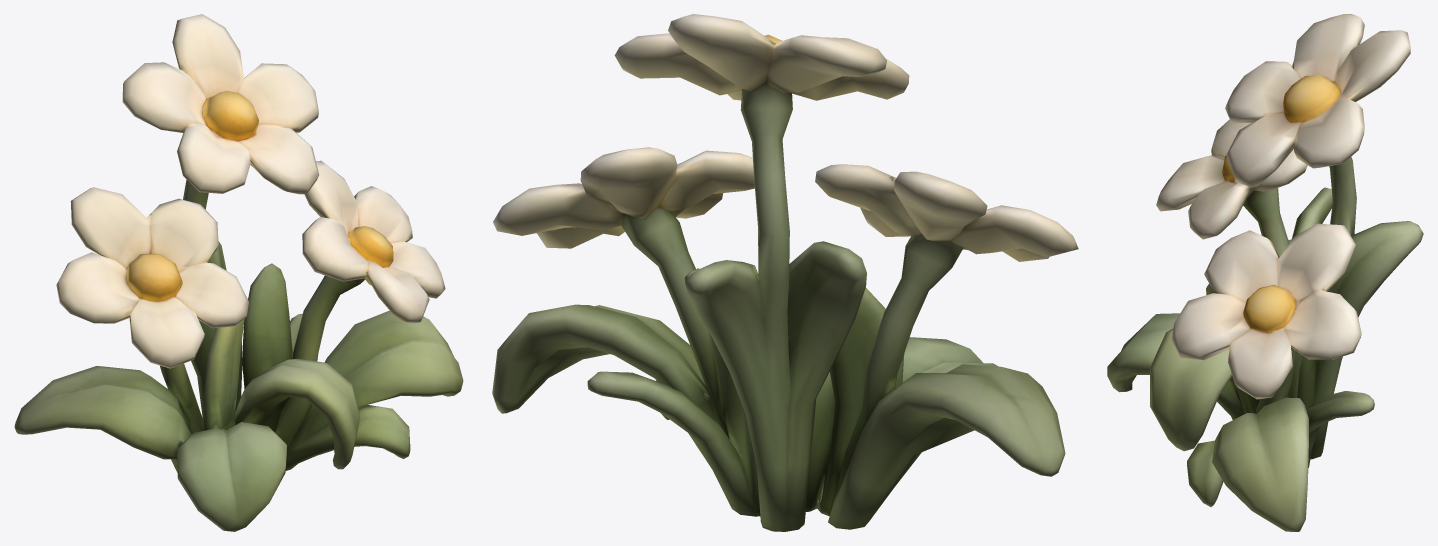
The model's file is cream-daisies.glb.
3 renders of one model, left to right at view 1: azimuth 30°, elevation 25°; view 2: azimuth 150°, elevation 25°; view 3: azimuth 270°, elevation 25°, orthographic. The views are drawn at different scales.
Visible parts, largest first — view 1: tripo_node_54202794-7faf-4e67-88e7-1b36d2ba2f23; view 2: tripo_node_54202794-7faf-4e67-88e7-1b36d2ba2f23; view 3: tripo_node_54202794-7faf-4e67-88e7-1b36d2ba2f23.
Boxes of the visible parts, left/top/right/bottom form: tripo_node_54202794-7faf-4e67-88e7-1b36d2ba2f23: left=14, top=14, right=463, bottom=531; tripo_node_54202794-7faf-4e67-88e7-1b36d2ba2f23: left=492, top=14, right=1078, bottom=531; tripo_node_54202794-7faf-4e67-88e7-1b36d2ba2f23: left=1107, top=14, right=1423, bottom=531.
Bounding box in the file's own units: 0.9778 × 0.9012 × 0.6066.
Materials: 1 (1 with a texture image).
